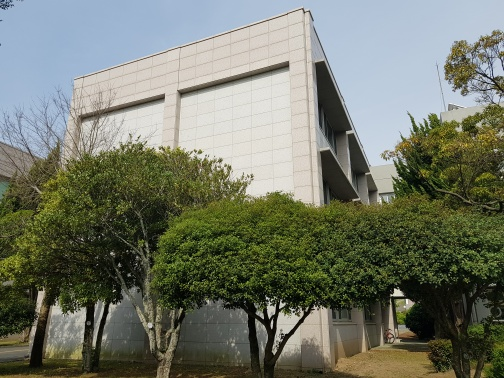College of Nursing: (62, 43, 386, 369)
